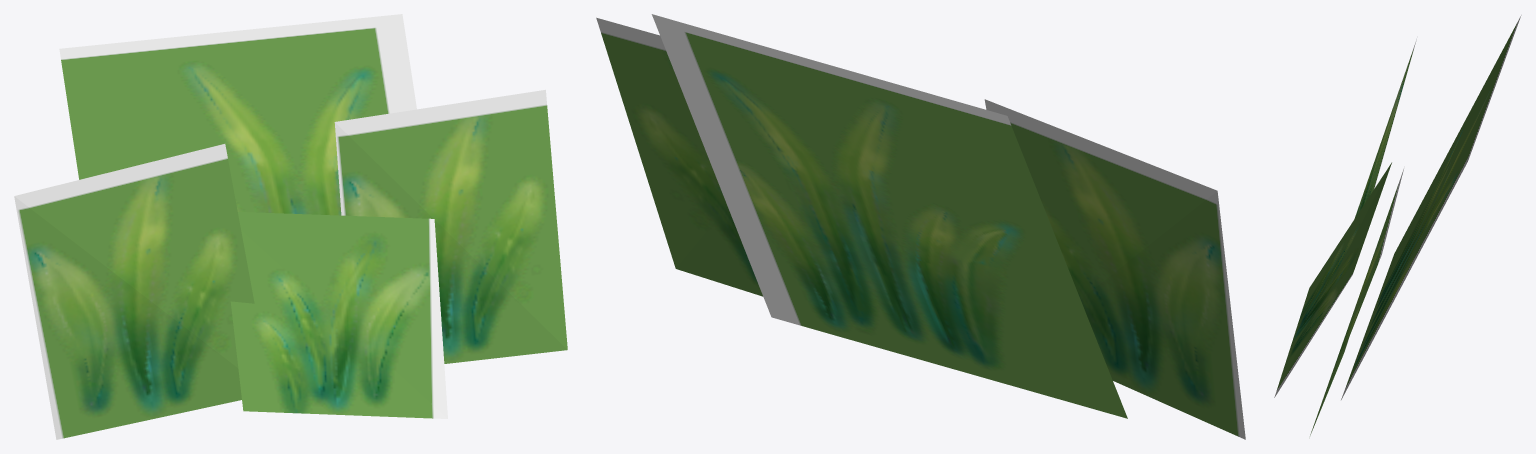
File: map_8009_zu_cao.FBX
3 views of the same model, side by side, from view 1: azimuth 30°, elevation 25°; view 2: azimuth 150°, elevation 25°; view 3: azimuth 270°, elevation 25° (orthographic). The views are drawn at different scales.
Visible parts, largest first — view 1: map_8009_zu_cao; view 2: map_8009_zu_cao; view 3: map_8009_zu_cao.
Boxes of the visible parts, x1=… form: map_8009_zu_cao: x1=14, y1=14, x2=567, y2=439; map_8009_zu_cao: x1=596, y1=14, x2=1245, y2=439; map_8009_zu_cao: x1=1274, y1=15, x2=1521, y2=435.
Size of the model in its own units: 1.81 by 1.1 by 0.8812.
